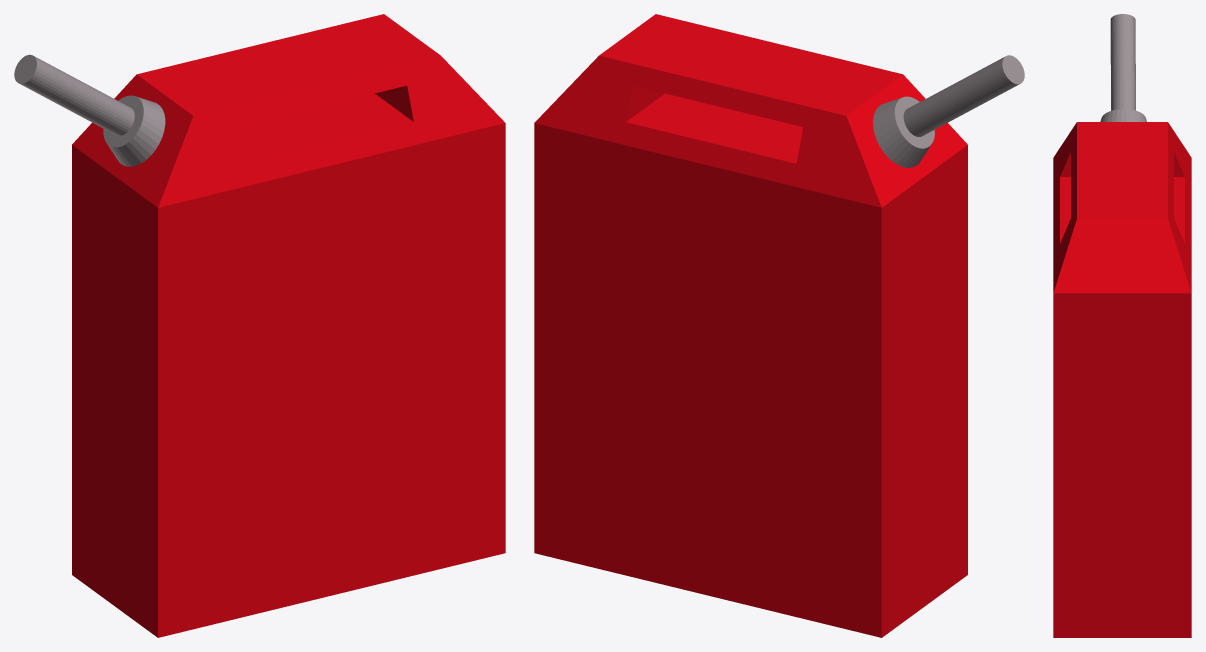
Rendered from gastank.fbx.
3 renders of one model, left to right at view 1: azimuth 30°, elevation 25°; view 2: azimuth 150°, elevation 25°; view 3: azimuth 270°, elevation 25°, orthographic. The views are drawn at different scales.
Visible parts, largest first — view 1: Cube, Circle; view 2: Cube, Circle; view 3: Cube, Circle.
Part boxes in pixels (<box>): Cube: <box>72,14,505,637</box>; Circle: <box>14,54,165,166</box>; Cube: <box>534,14,967,637</box>; Circle: <box>873,55,1024,167</box>; Cube: <box>1053,122,1191,637</box>; Circle: <box>1100,14,1146,121</box>.
Bounding box in the file's own units: 298 × 365 × 99.95.
